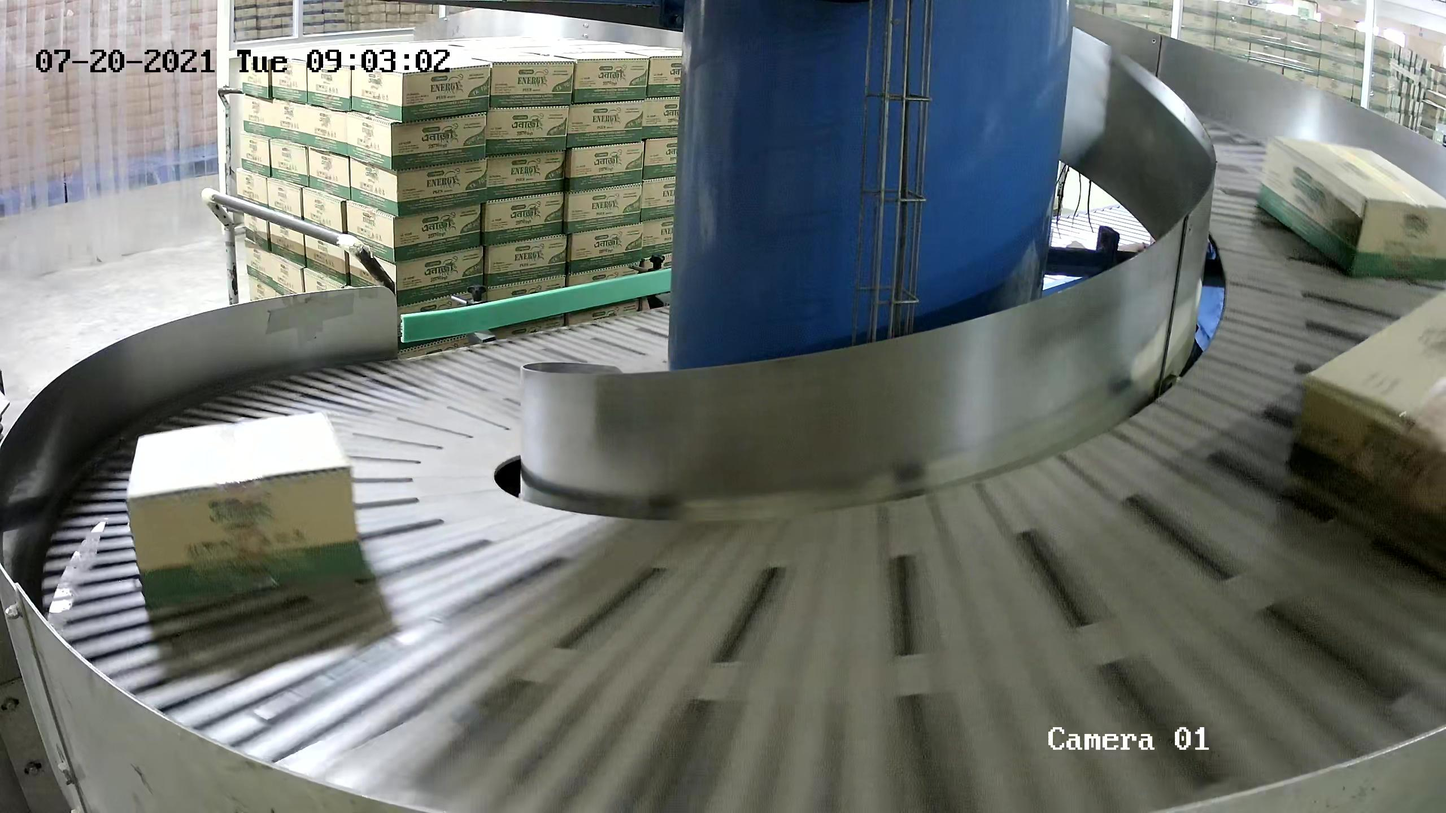Box: (1288, 283, 1446, 591), (125, 410, 366, 611), (1255, 132, 1446, 282)
